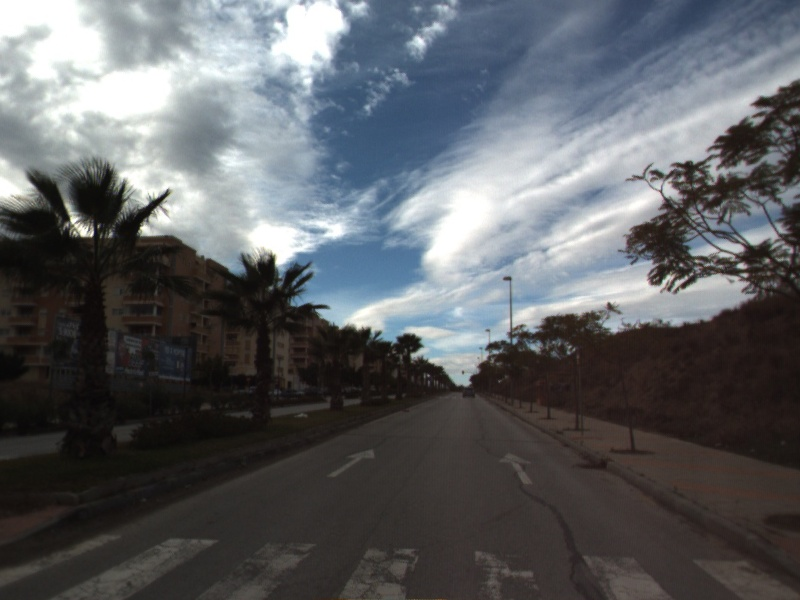STRAIGHT: (325, 446, 377, 479), (497, 450, 536, 486)
